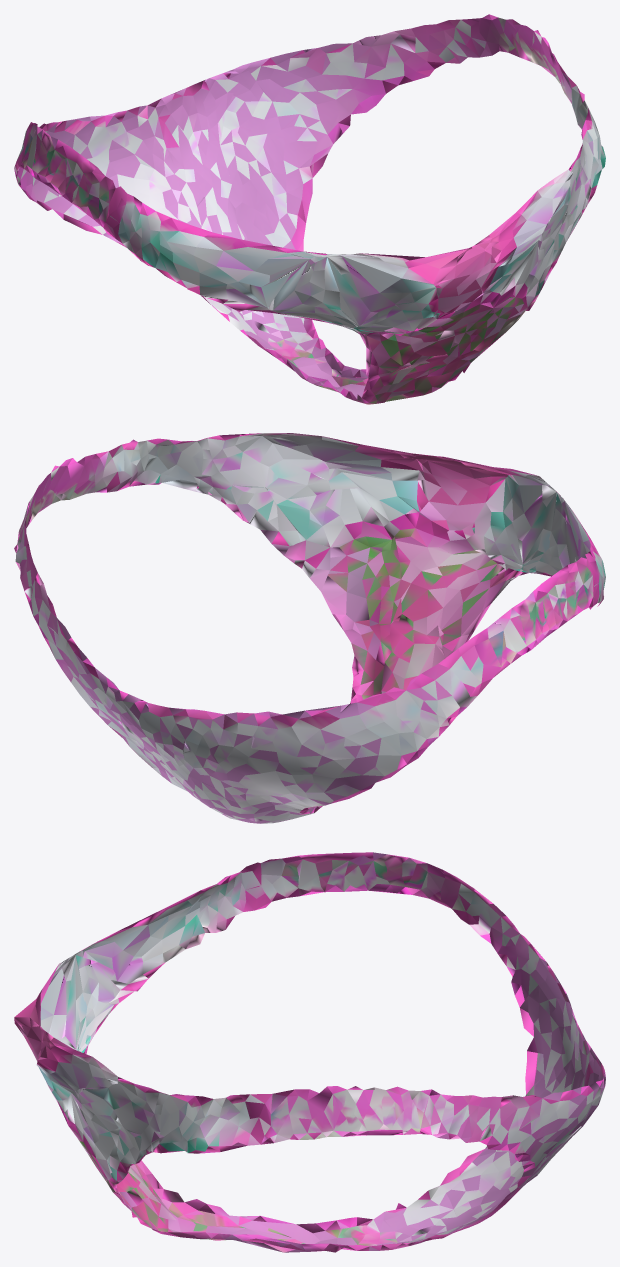
The model's file is panties.glb.
The picture shows the model from 3 angles, top to bottom: view 1: azimuth 30°, elevation 25°; view 2: azimuth 150°, elevation 25°; view 3: azimuth 270°, elevation 25°; orthographic projection. The views are drawn at different scales.
Visible parts, largest first — view 1: texture_pbr_v128; view 2: texture_pbr_v128; view 3: texture_pbr_v128.
Part boxes in pixels (x1,y1,x2,y2): texture_pbr_v128: (14, 14, 605, 404); texture_pbr_v128: (14, 433, 605, 823); texture_pbr_v128: (14, 852, 605, 1252).
Size of the model in its own units: 1.61 by 0.8548 by 1.63.
1 material, 1 textured.
